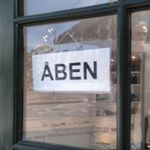other: (30, 51, 112, 97)
